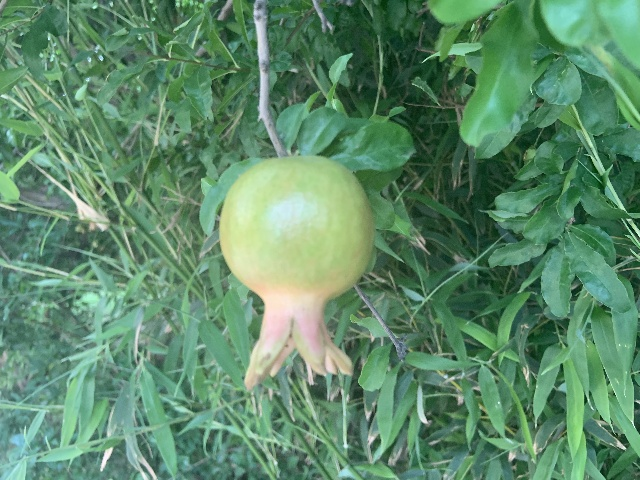mid-growth: (218, 155, 374, 394)
